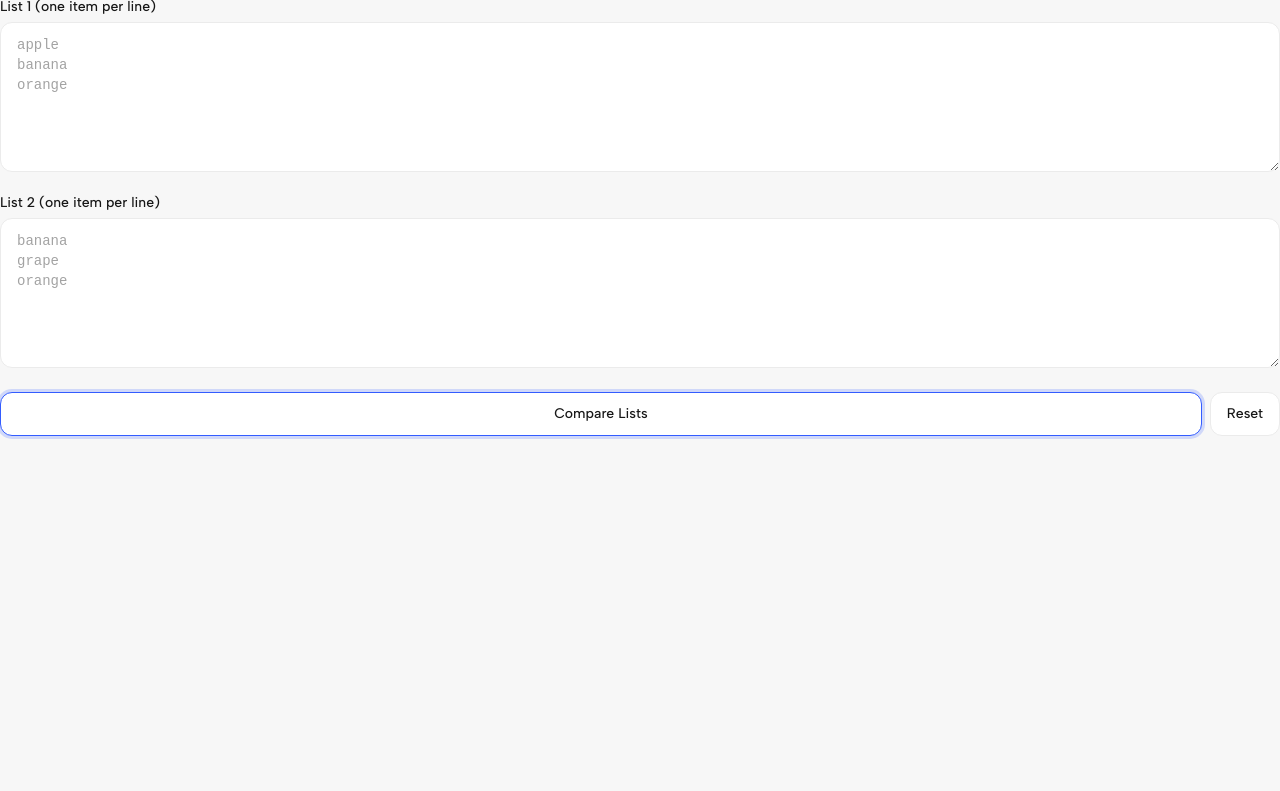
Test: ListComparerTool › resets all values when reset button is clicked
This screenshot has width=1280, height=791.
Type "apple banana" into the text box with placeholder "apple banana orange" at {"x": 640, "y": 97}, box [0,22,1279,172]
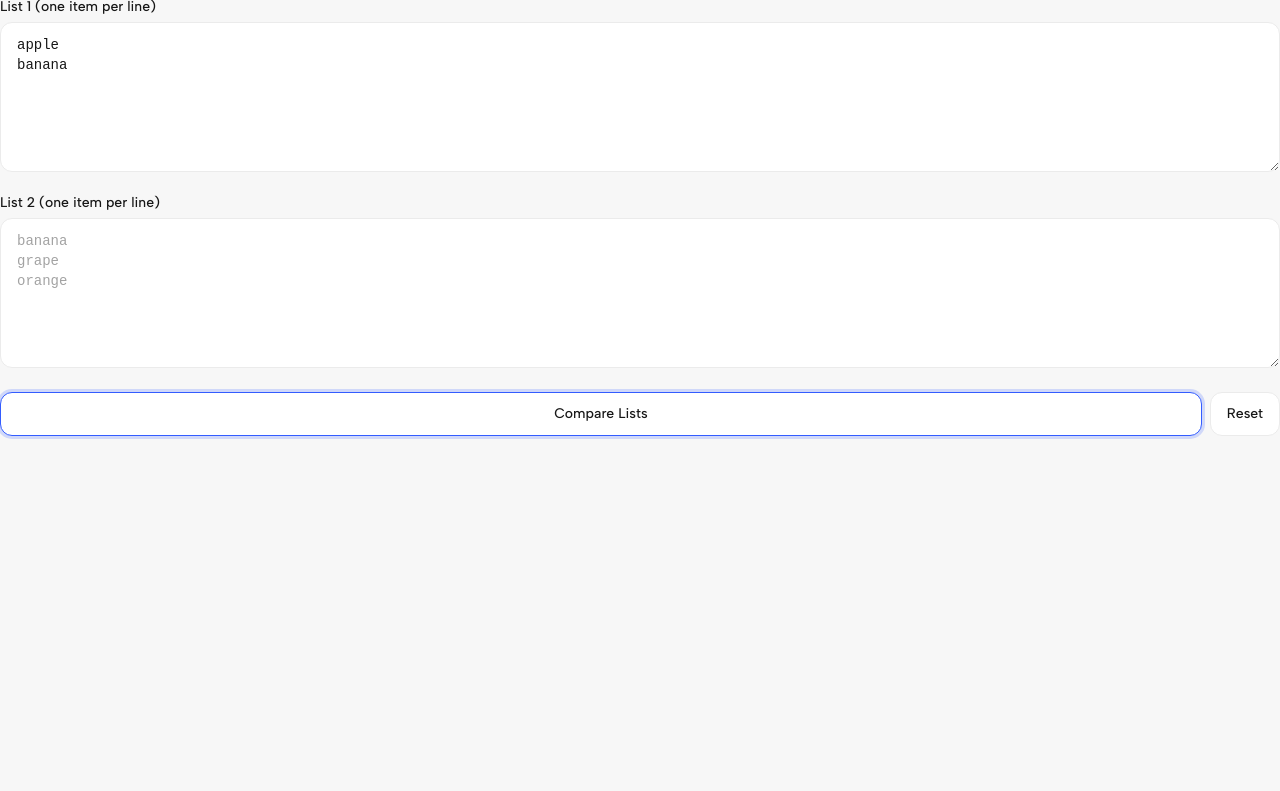
Type "banana grape" into the text box with placeholder "banana grape orange" at {"x": 640, "y": 293}, box [0,218,1279,368]
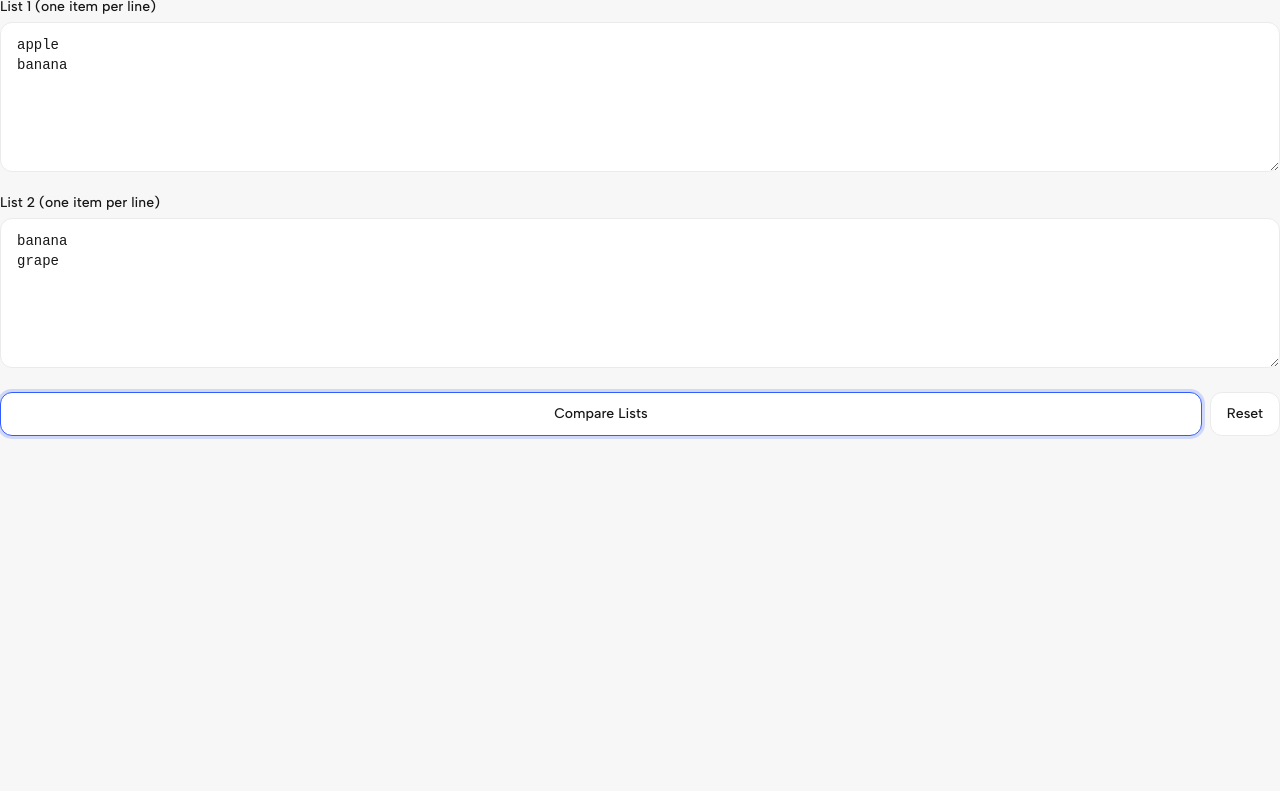
Click the button "Compare Lists" at {"x": 601, "y": 414}, box [0,392,1202,436]
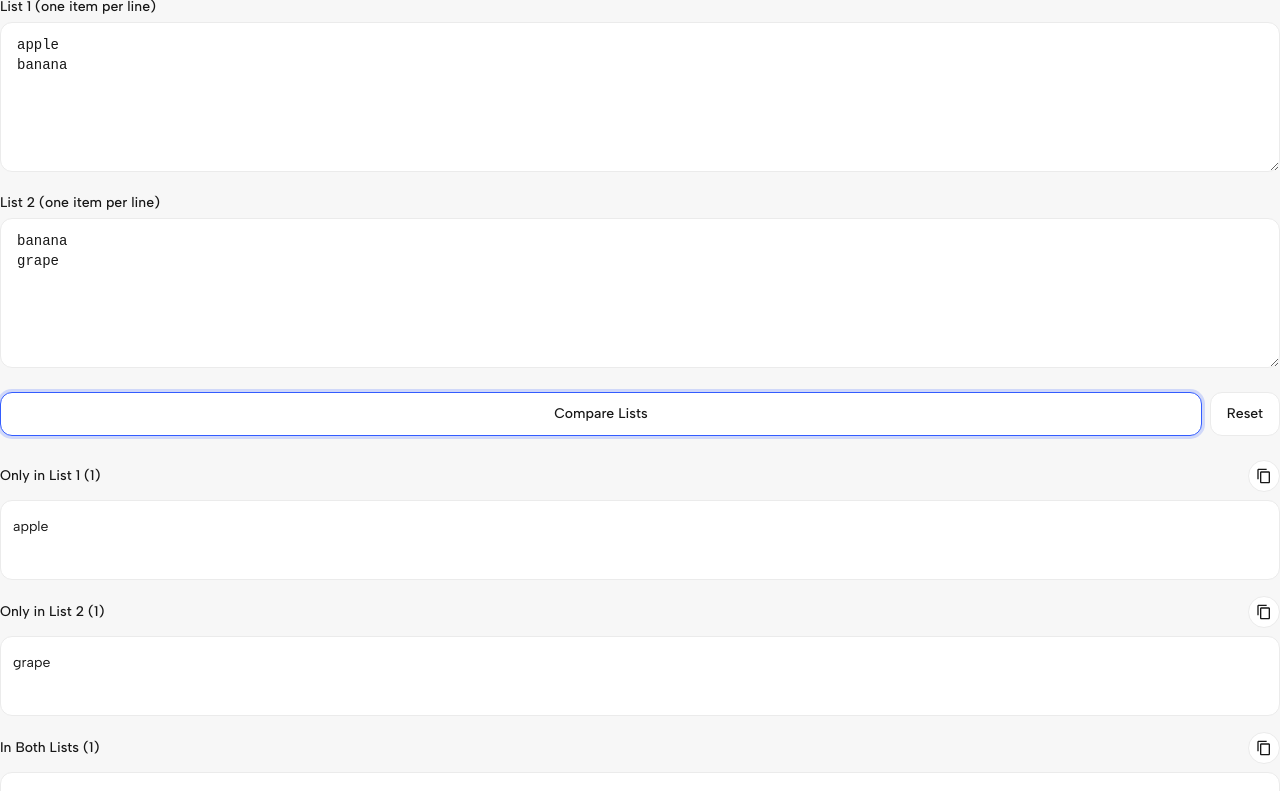
Click the button "Reset" at {"x": 1245, "y": 414}, box [1210,392,1279,436]
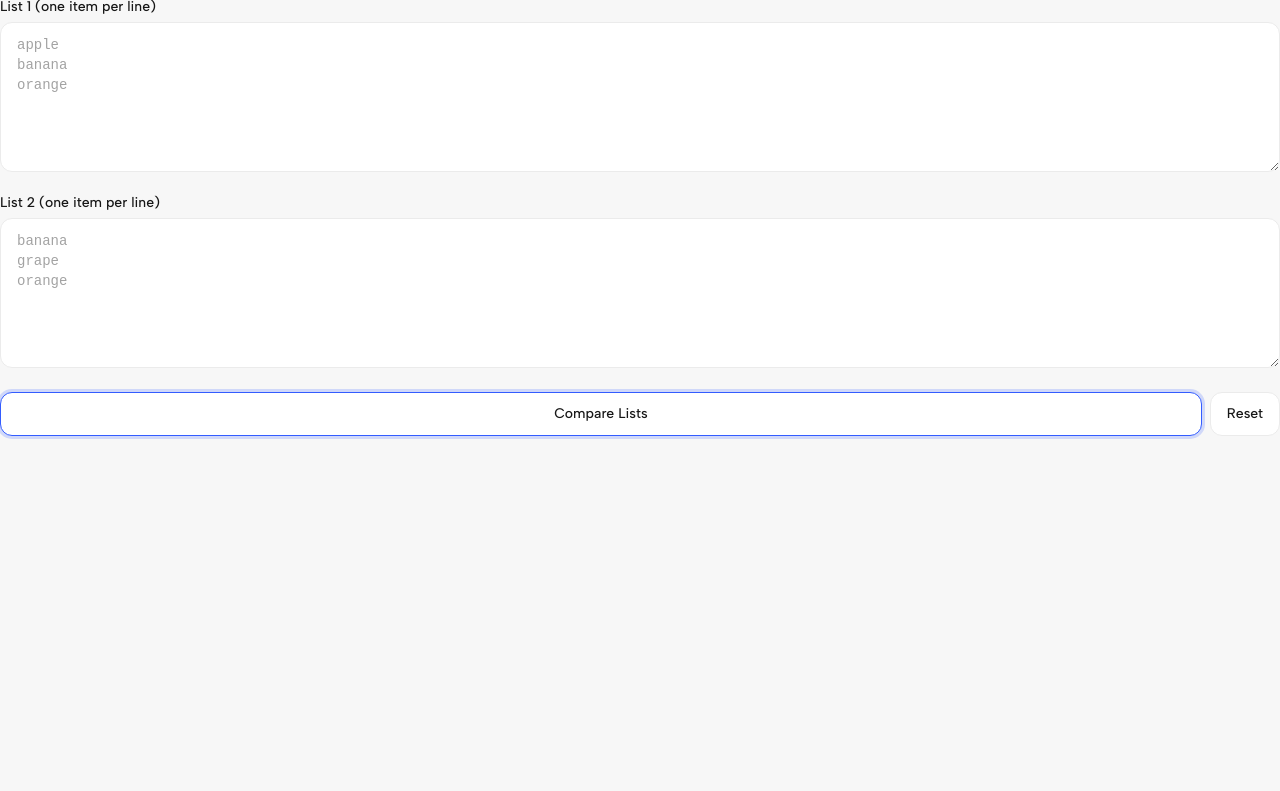
Now the text box with placeholder "apple banana orange" is empty, box [0,22,1279,172]
Now the text box with placeholder "banana grape orange" is empty, box [0,218,1279,368]
Now the text "Only in List 1" is gone
